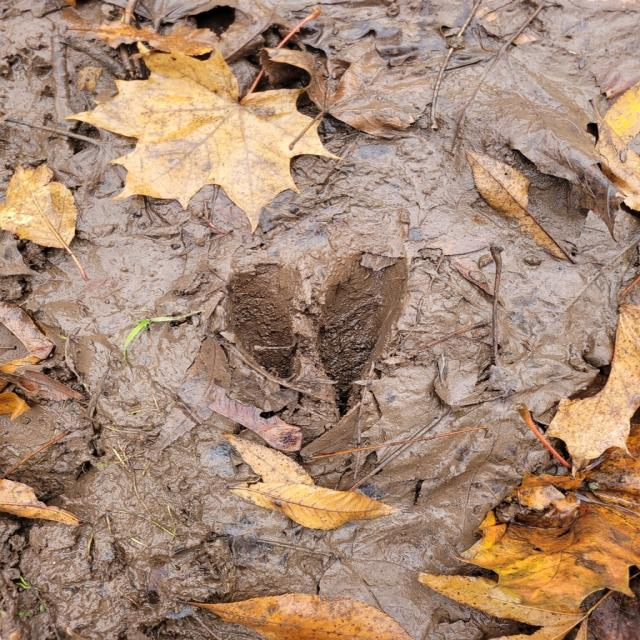deer: (208, 260, 418, 415)
